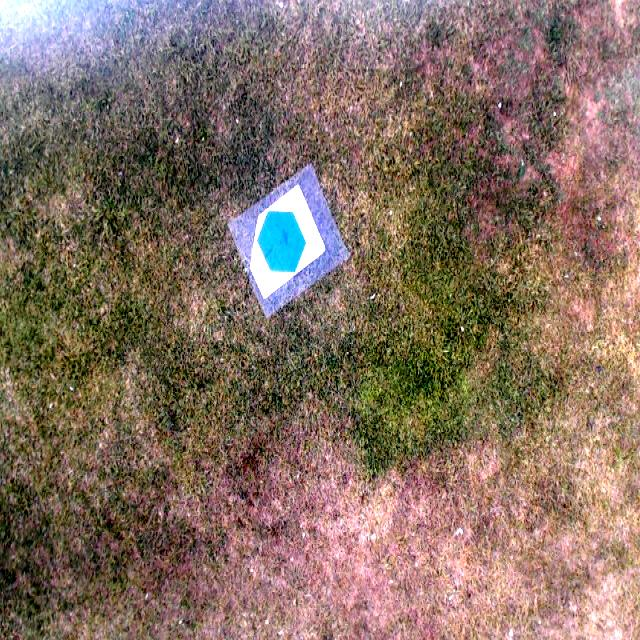blue_hexagon: (258, 210, 307, 274)
